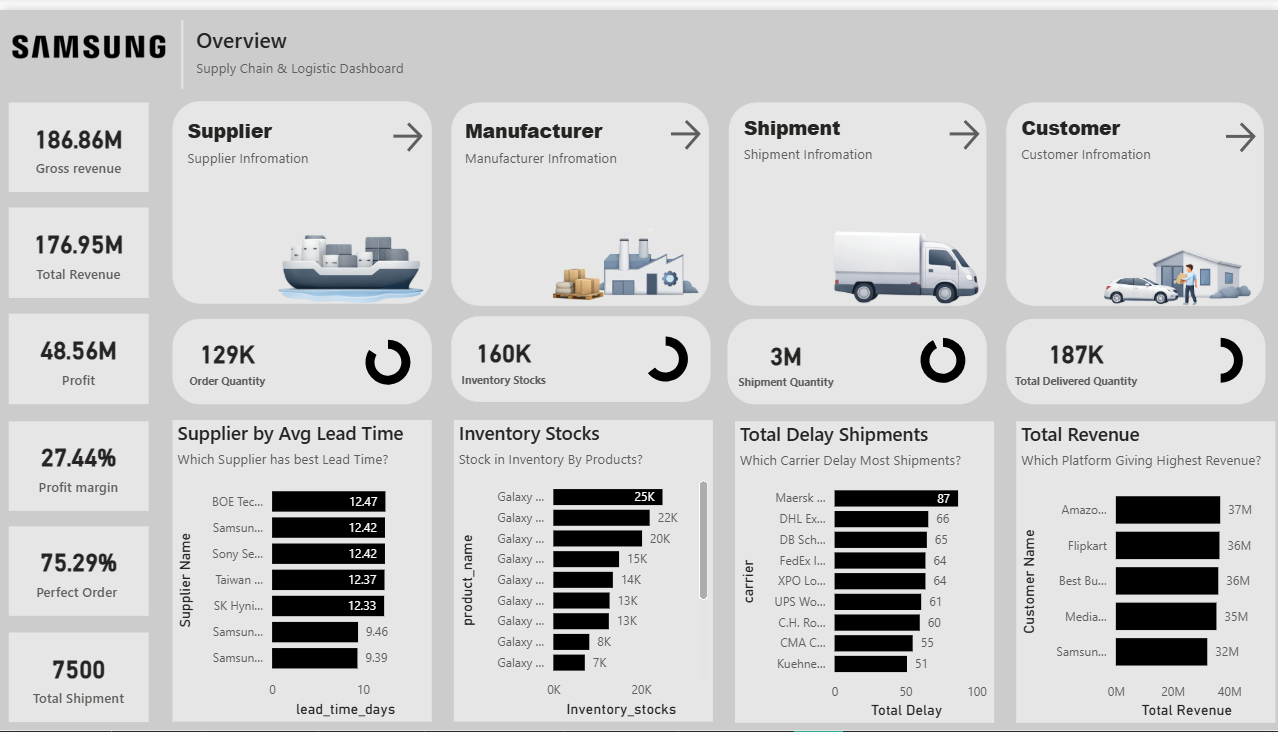

Layout of this report page (visuals, bound fields, positions):
{"tool":"powerbi","page":{"name":"OverView","canvas":[1280,720],"ordinal":1},"visuals":[{"type":"shape","box":[451.1,92.3,258,203.1],"z":0},{"type":"shape","box":[173,91.5,258.9,202.5],"z":1000},{"type":"shape","box":[1006.4,92.3,258,203.1],"z":2000},{"type":"shape","box":[728.8,92.3,258,203.1],"z":3000},{"type":"image","box":[262.6,192.1,169.3,116.6],"z":4000},{"type":"image","box":[819.8,192.5,167.4,116.6],"z":5000},{"type":"image","box":[1097,206.2,167.4,116.6],"z":6000},{"type":"image","box":[535.7,192.5,168,116],"z":7000},{"type":"actionButton","box":[387.7,107.5,44.2,39.3],"z":8000},{"type":"actionButton","box":[1220.5,107.4,43.9,39.8],"z":9000},{"type":"actionButton","box":[943.3,104.7,43.9,39.8],"z":10000},{"type":"actionButton","box":[664.7,104.7,43.9,39.8],"z":11000},{"type":"image","box":[0,9.8,170.6,52.8],"z":12000},{"type":"shape","box":[137.4,9.8,89.6,68.7],"z":13000},{"type":"textbox","title":"Overview","box":[191.4,14.7,311.7,60.1],"z":14000},{"type":"textbox","title":"Supplier","box":[182.8,108,204.9,98.2],"z":15000},{"type":"textbox","title":"Manufacturer","box":[460.1,108,204.9,98.2],"z":16000},{"type":"textbox","title":"Shipment","box":[738.7,104.3,204.9,98.2],"z":17000},{"type":"textbox","title":"Customer","box":[1016,104.3,204.9,98.2],"z":18000},{"type":"card","fields":{"Values":["Measure Table.Total_Revenue"]},"box":[8.6,197.5,139.9,90.8],"z":19000},{"type":"card","fields":{"Values":["Measure Table.Total_shipment"]},"box":[8.6,622.1,139.9,89.6],"z":20000},{"type":"card","fields":{"Values":["Measure Table.Perfect_Order %"]},"box":[8.6,516.6,139.9,89.6],"z":21000},{"type":"card","fields":{"Values":["Measure Table.Profit"]},"box":[8.6,304.3,139.9,90.8],"z":22000},{"type":"card","fields":{"Values":["Measure Table.Profit_margin %"]},"box":[8.6,411,139.9,89.6],"z":23000},{"type":"card","fields":{"Values":["Sum(fact_sales.gross_revenue)"]},"box":[8.6,92,139.9,89.6],"z":24000},{"type":"shape","box":[173,309.2,258.9,85.9],"z":25000},{"type":"shape","box":[451.5,306.8,258.9,85.9],"z":26000},{"type":"shape","box":[727.6,309.2,258.9,85.9],"z":27000},{"type":"shape","box":[1006.1,309.2,258.9,85.9],"z":28000},{"type":"card","fields":{"Values":["Sum(fact_procurement.order_quantity)"]},"box":[157.1,306.8,139.9,89.6],"z":29000},{"type":"card","fields":{"Values":["Measure Table.Inventory_stocks"]},"box":[433.1,305.5,139.9,89.6],"z":30000},{"type":"card","fields":{"Values":["Measure Table.Total Delivered Quantity"]},"box":[1006.1,306.8,139.9,89.6],"z":31000},{"type":"card","fields":{"Values":["Sum(fact_shipment.quantity)"]},"box":[716.6,308,139.9,89.6],"z":32000},{"type":"clusteredBarChart","title":"Supplier by Avg Lead Time","fields":{"Y":["Avg(fact_procurement.lead_time_days)"],"Category":["dim_supplier.supplier_name"]},"box":[173,409.8,258.9,301.8],"z":33000},{"type":"clusteredBarChart","title":"Inventory Stocks","fields":{"Y":["Measure Table.Inventory_stocks"],"Category":["dim_product.product_name"]},"box":[454,409.8,258.9,301.8],"z":34000},{"type":"clusteredBarChart","title":"Total Revenue","fields":{"Y":["Measure Table.Total_Revenue"],"Category":["dim_customer.customer_name"]},"box":[1016,411,258.9,301.8],"z":35000},{"type":"clusteredBarChart","title":"Total Delay Shipments","fields":{"Y":["Measure Table.Total Delay"],"Category":["fact_shipment.carrier"]},"box":[735,411,258.9,301.8],"z":36000},{"type":"donutChart","fields":{"Y":["Measure Table.Inventory_stocks","Sum(fact_inventory.safety_stock_level)"]},"box":[631.9,309.2,66.3,81],"z":37000},{"type":"donutChart","fields":{"Y":["Measure Table.Total Delivered Quantity","Measure Table.Total Qty Delay"]},"box":[1187.7,310.4,66.3,81],"z":38000},{"type":"donutChart","fields":{"Y":["Measure Table.Total_shipment","Measure Table.Total Delay"]},"box":[910.4,310.4,66.3,81],"z":39000},{"type":"donutChart","fields":{"Y":["Sum(fact_procurement.order_quantity)","Sum(fact_production.defective_units)"]},"box":[354.6,312.9,66.3,79.8],"z":40000},{"type":"actionButton","box":[1066.3,14.7,187.7,63.8],"z":40001},{"type":"image","box":[1076.1,22.1,54,46.6],"z":40002}]}

Visuals, with their boxes in screenshot pixels (x1, y1, x2, y2), scaled from the page's 1280x720 canvas onto the 1278x732 screenshot:
shape: <box>450,94,708,300</box>
shape: <box>173,93,431,299</box>
shape: <box>1005,94,1262,300</box>
shape: <box>728,94,985,300</box>
image: <box>262,195,431,314</box>
image: <box>819,196,986,314</box>
image: <box>1095,210,1262,328</box>
image: <box>535,196,703,314</box>
actionButton: <box>387,109,431,149</box>
actionButton: <box>1219,109,1262,150</box>
actionButton: <box>942,106,986,147</box>
actionButton: <box>664,106,707,147</box>
image: <box>0,10,170,64</box>
shape: <box>137,10,227,80</box>
"Overview" textbox: <box>191,15,502,76</box>
"Supplier" textbox: <box>183,110,387,210</box>
"Manufacturer" textbox: <box>459,110,664,210</box>
"Shipment" textbox: <box>738,106,942,206</box>
"Customer" textbox: <box>1014,106,1219,206</box>
card - Measure Table.Total_Revenue: <box>9,201,148,293</box>
card - Measure Table.Total_shipment: <box>9,632,148,724</box>
card - Measure Table.Perfect_Order %: <box>9,525,148,616</box>
card - Measure Table.Profit: <box>9,309,148,402</box>
card - Measure Table.Profit_margin %: <box>9,418,148,509</box>
card - Sum(fact_sales.gross_revenue): <box>9,94,148,185</box>
shape: <box>173,314,431,402</box>
shape: <box>451,312,709,399</box>
shape: <box>726,314,985,402</box>
shape: <box>1005,314,1263,402</box>
card - Sum(fact_procurement.order_quantity): <box>157,312,297,403</box>
card - Measure Table.Inventory_stocks: <box>432,311,572,402</box>
card - Measure Table.Total Delivered Quantity: <box>1005,312,1144,403</box>
card - Sum(fact_shipment.quantity): <box>715,313,855,404</box>
"Supplier by Avg Lead Time" clusteredBarChart: <box>173,417,431,723</box>
"Inventory Stocks" clusteredBarChart: <box>453,417,712,723</box>
"Total Revenue" clusteredBarChart: <box>1014,418,1273,725</box>
"Total Delay Shipments" clusteredBarChart: <box>734,418,992,725</box>
donutChart - Measure Table.Inventory_stocks x Sum(fact_inventory.safety_stock_level): <box>631,314,697,397</box>
donutChart - Measure Table.Total Delivered Quantity x Measure Table.Total Qty Delay: <box>1186,316,1252,398</box>
donutChart - Measure Table.Total_shipment x Measure Table.Total Delay: <box>909,316,975,398</box>
donutChart - Sum(fact_procurement.order_quantity) x Sum(fact_production.defective_units): <box>354,318,420,399</box>
actionButton: <box>1065,15,1252,80</box>
image: <box>1074,22,1128,70</box>
